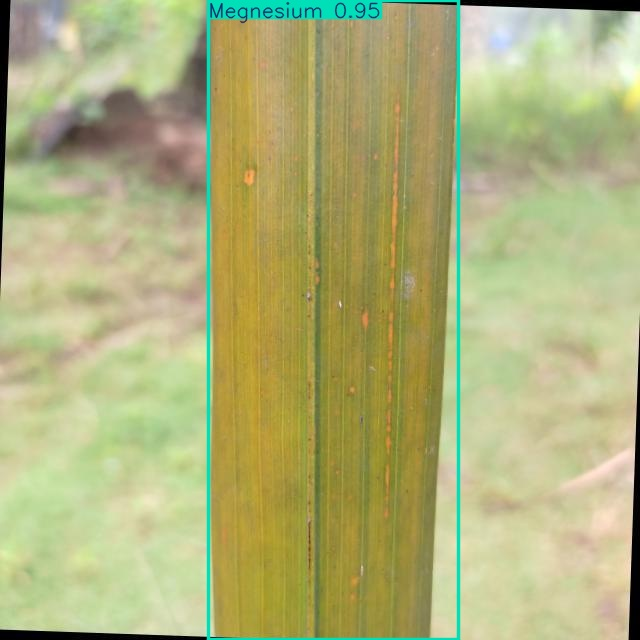Megnesium: (209, 1, 459, 640)
